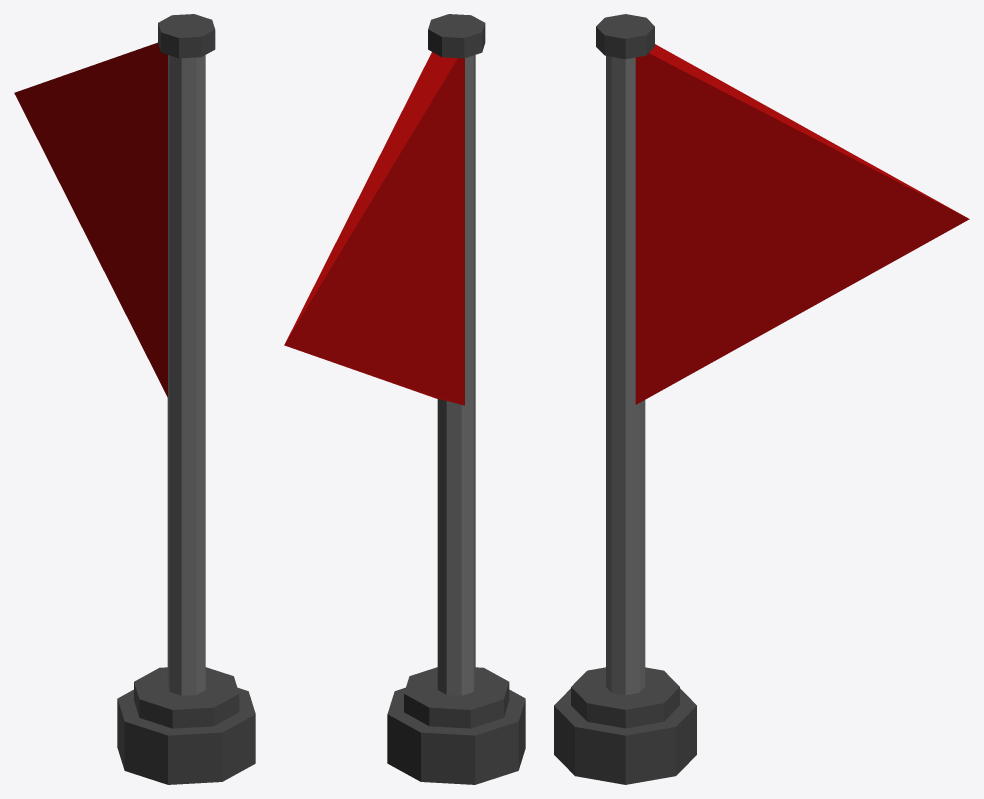
File: ClaimFlag.fbx
The picture shows the model from 3 angles, left to right: view 1: azimuth 30°, elevation 25°; view 2: azimuth 150°, elevation 25°; view 3: azimuth 270°, elevation 25°; orthographic projection.
Visible parts, largest first — view 1: pCube1, pCylinder3, pCylinder1, pCylinder2, pCylinder4; view 2: pCube1, pCylinder3, pCylinder1, pCylinder2, pCylinder4; view 3: pCube1, pCylinder3, pCylinder1, pCylinder2, pCylinder4.
Boxes of the visible parts, x1,y1,x2,y2 form: pCube1: (14, 42, 167, 397); pCylinder3: (167, 55, 205, 695); pCylinder1: (117, 687, 255, 784); pCylinder2: (134, 667, 239, 728); pCylinder4: (158, 14, 215, 58); pCube1: (284, 52, 464, 405); pCylinder3: (437, 55, 475, 695); pCylinder1: (387, 687, 525, 784); pCylinder2: (404, 667, 509, 728); pCylinder4: (428, 14, 485, 58); pCube1: (635, 44, 969, 404); pCylinder3: (606, 56, 645, 695); pCylinder1: (554, 688, 696, 784); pCylinder2: (571, 667, 679, 728); pCylinder4: (596, 14, 654, 59).
Bounding box in the file's own units: 20 × 112 × 58.18.
